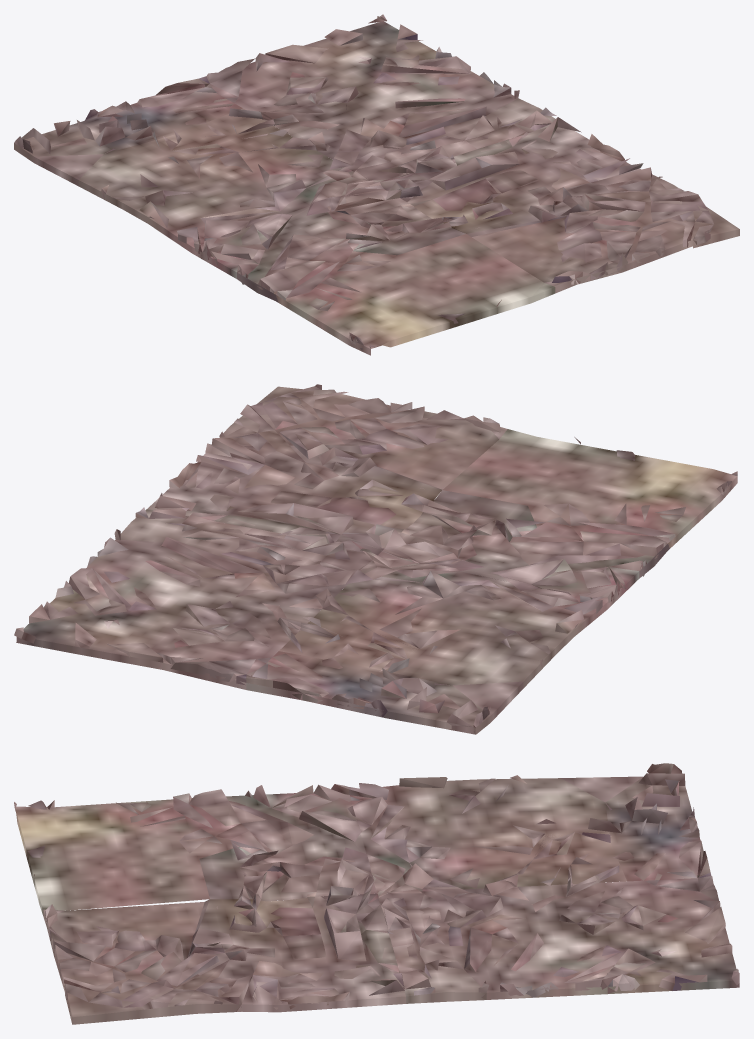
3 views of the same model, one above another, from view 1: azimuth 30°, elevation 25°; view 2: azimuth 150°, elevation 25°; view 3: azimuth 270°, elevation 25° (orthographic). The views are drawn at different scales.
Parts seen in each view (by area): view 1: Mesh_0; view 2: Mesh_0; view 3: Mesh_0.
Part boxes in pixels (x1,y1,x2,y2): Mesh_0: (14, 14, 739, 355); Mesh_0: (14, 384, 737, 734); Mesh_0: (14, 763, 739, 1024).
Size of the model in its own units: 1065 by 64.4 by 1319.
Materials: 1 (1 with a texture image).
